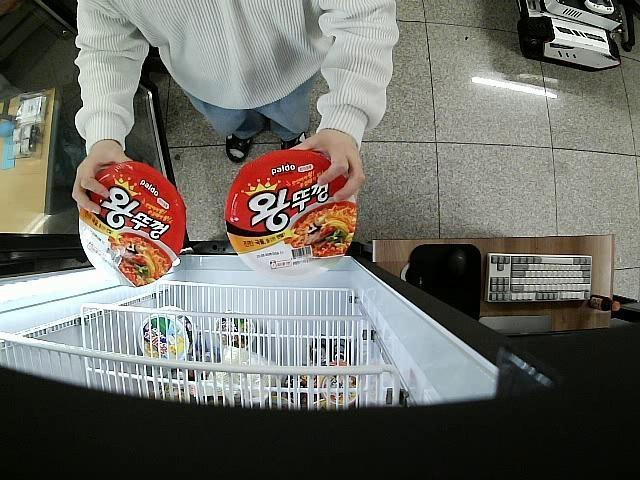10_wangTtukkeong: (226, 148, 355, 277), (78, 161, 184, 284)
